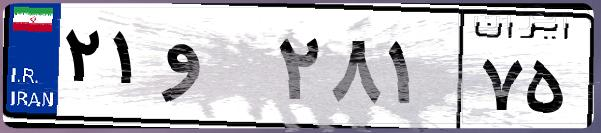1: (385, 28, 445, 110), (110, 28, 158, 98)
2: (270, 28, 330, 110), (57, 26, 110, 100)
5: (525, 38, 570, 115)
7: (475, 38, 525, 113)
8: (330, 28, 385, 110)
و: (158, 20, 270, 120)
